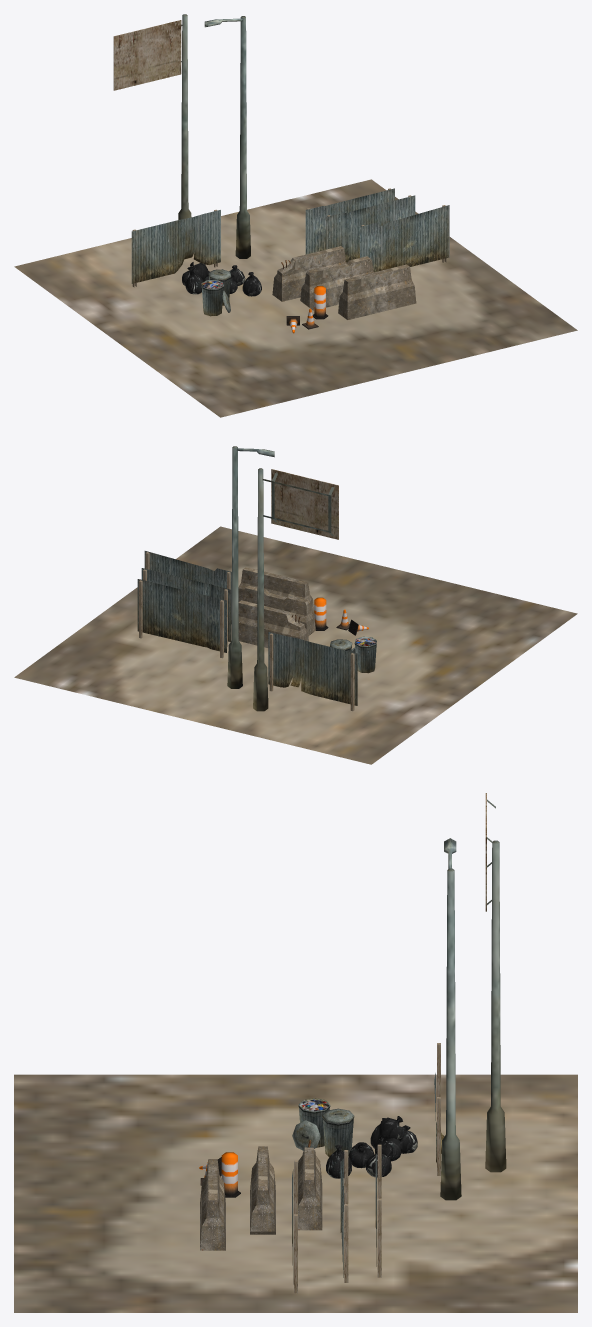
The model's file is city_props.glb.
The picture shows the model from 3 angles, top to bottom: view 1: azimuth 30°, elevation 25°; view 2: azimuth 150°, elevation 25°; view 3: azimuth 270°, elevation 25°; orthographic projection. The views are drawn at different scales.
Visible parts, largest first — view 1: Plane, Plane.001, Plane.003, stret names panel, Cube.003, Plane.002, light most module.001, Cube.005, Cube.006, Plane.004, light most module.002, Cylinder.002 (+1 smaller); view 2: Plane, Plane.004, Plane.001, stret names panel, light most module.002, light most module.001, Cube.005, Plane.003, Cube.003, Plane.002, Cube.006, Cylinder.002 (+1 smaller); view 3: Plane, light most module.001, light most module.002, Cube.003, Cube.006, Cube.005, Cube.004, Cylinder, Plane.002, Plane.004, Cylinder.002, Plane.003 (+2 smaller).
Part boxes in pixels (x1,y1,x2,y2): Plane: (14, 179, 577, 417); Plane.001: (131, 209, 220, 287); Plane.003: (360, 205, 449, 272); stret names panel: (113, 20, 182, 90); Cube.003: (338, 264, 416, 319); Plane.002: (326, 195, 415, 262); light most module.001: (235, 16, 250, 258); Cube.005: (272, 246, 346, 301); Cube.006: (300, 256, 373, 310); Plane.004: (305, 188, 394, 254); light most module.002: (178, 14, 191, 219); Cylinder.002: (201, 279, 223, 316); Plane: (14, 526, 577, 764); Plane.004: (137, 579, 226, 658); Plane.001: (268, 632, 357, 711); stret names panel: (262, 469, 338, 539); light most module.002: (253, 468, 268, 711); light most module.001: (227, 446, 242, 688); Cube.005: (238, 600, 308, 647); Plane.003: (144, 551, 231, 623); Cube.003: (238, 567, 314, 615); Plane.002: (141, 568, 231, 646); Cube.006: (242, 585, 315, 635); Cylinder.002: (354, 636, 376, 673); Plane: (14, 1074, 577, 1312); light most module.001: (440, 868, 461, 1200); light most module.002: (485, 840, 506, 1172); Cube.003: (200, 1159, 225, 1250); Cube.006: (250, 1146, 275, 1234); Cube.005: (298, 1140, 322, 1230); Cube.004: (370, 1116, 417, 1161); Cylinder: (322, 1108, 354, 1157); Plane.002: (340, 1150, 348, 1282); Plane.004: (375, 1144, 381, 1277); Cylinder.002: (298, 1098, 330, 1147); Plane.003: (292, 1160, 297, 1293).
Bounding box in the file's own units: 10.64 × 6.93 × 10.64.
Materials: 3 (3 with a texture image).
